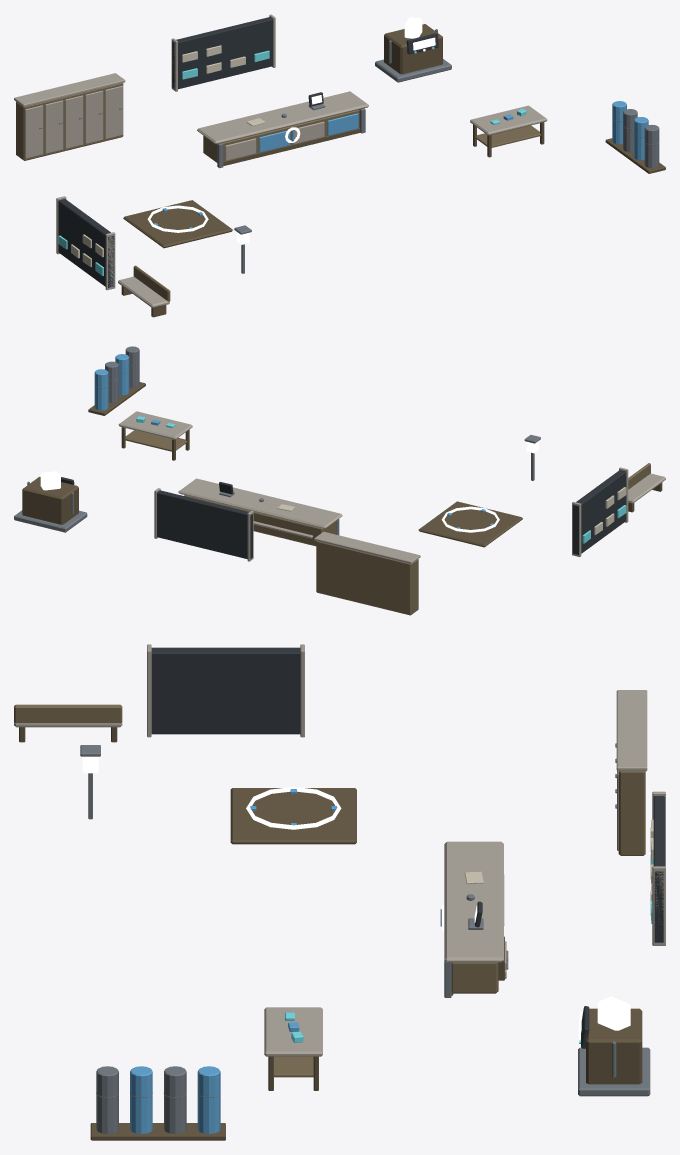
Rendered from returnstone_pad_office.glb.
3 renders of one model, top to bottom at view 1: azimuth 30°, elevation 25°; view 2: azimuth 150°, elevation 25°; view 3: azimuth 270°, elevation 25°, orthographic. The views are drawn at different scales.
Size of the model in its own units: 21.67 by 2.82 by 14.45.
